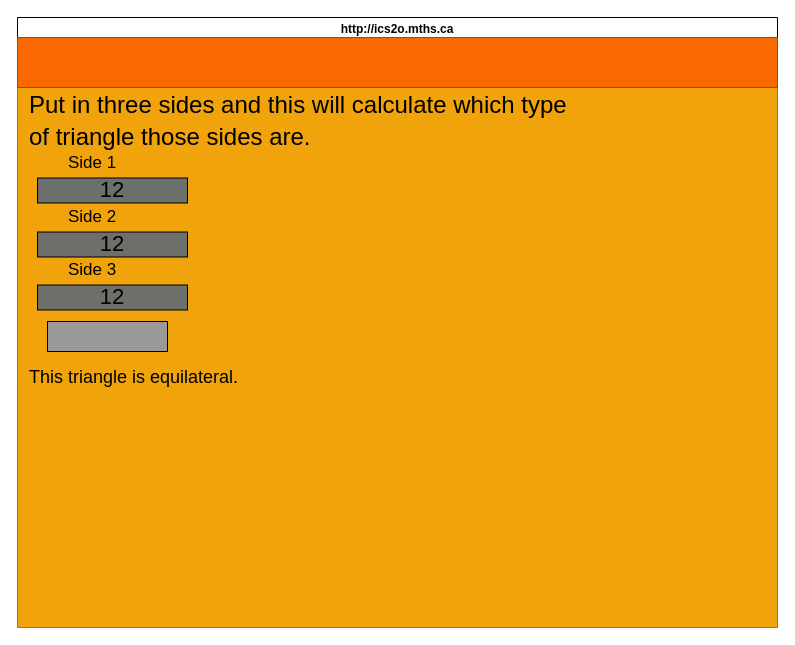
Image size: 795x645. Some labels were removed from this diagram. Here are the shapes that lost their labels. From the top down, the centre of each, then its label:
the point at 397,62: Triangle Type Calculator
the point at 107,336: Calculate
